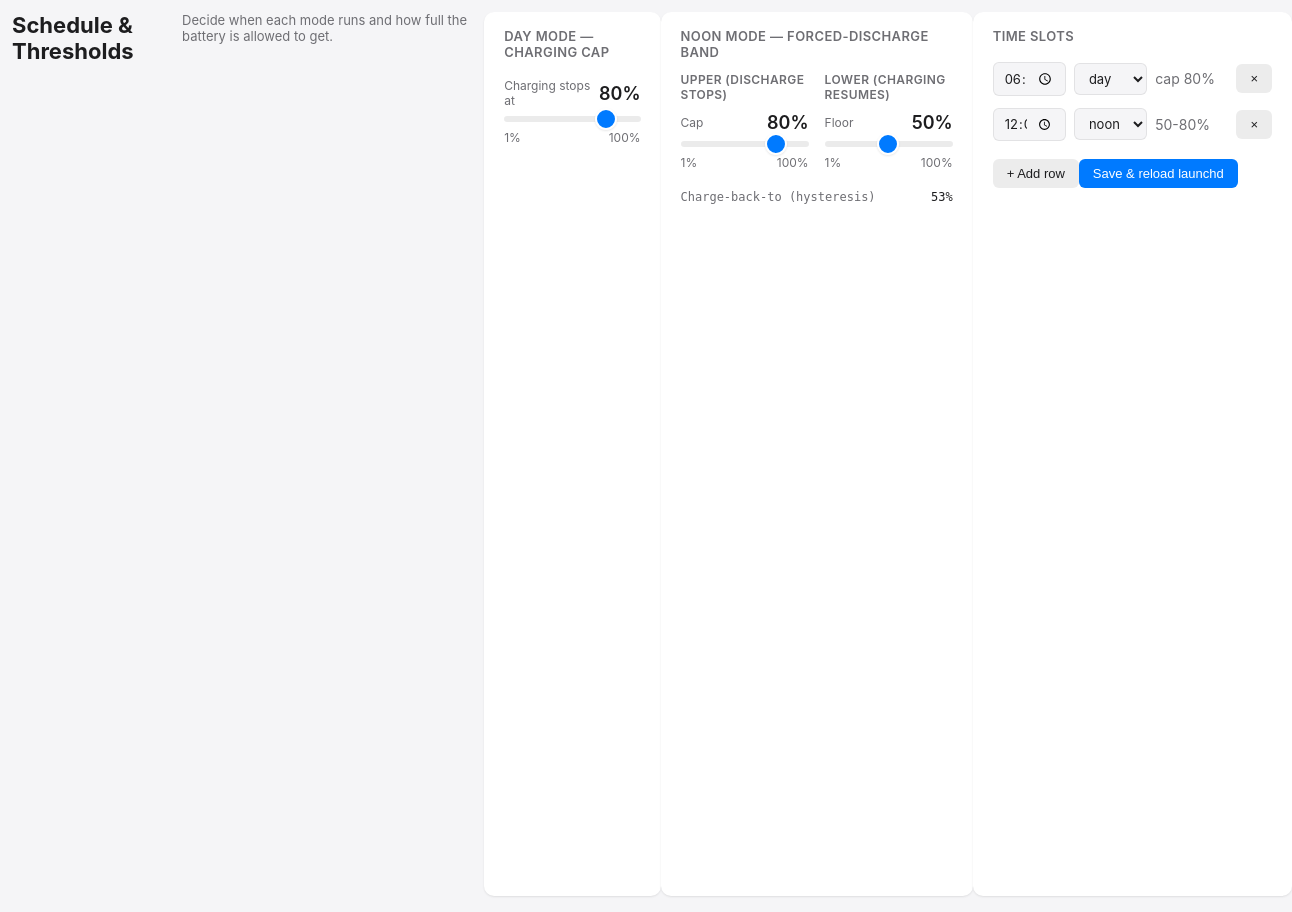
SchedulePage › day-upper slider change updates value (clamped)
Set the slider with test id "slider-day-upper" to "90" at {"x": 620, "y": 119}, box [504, 116, 640, 122]
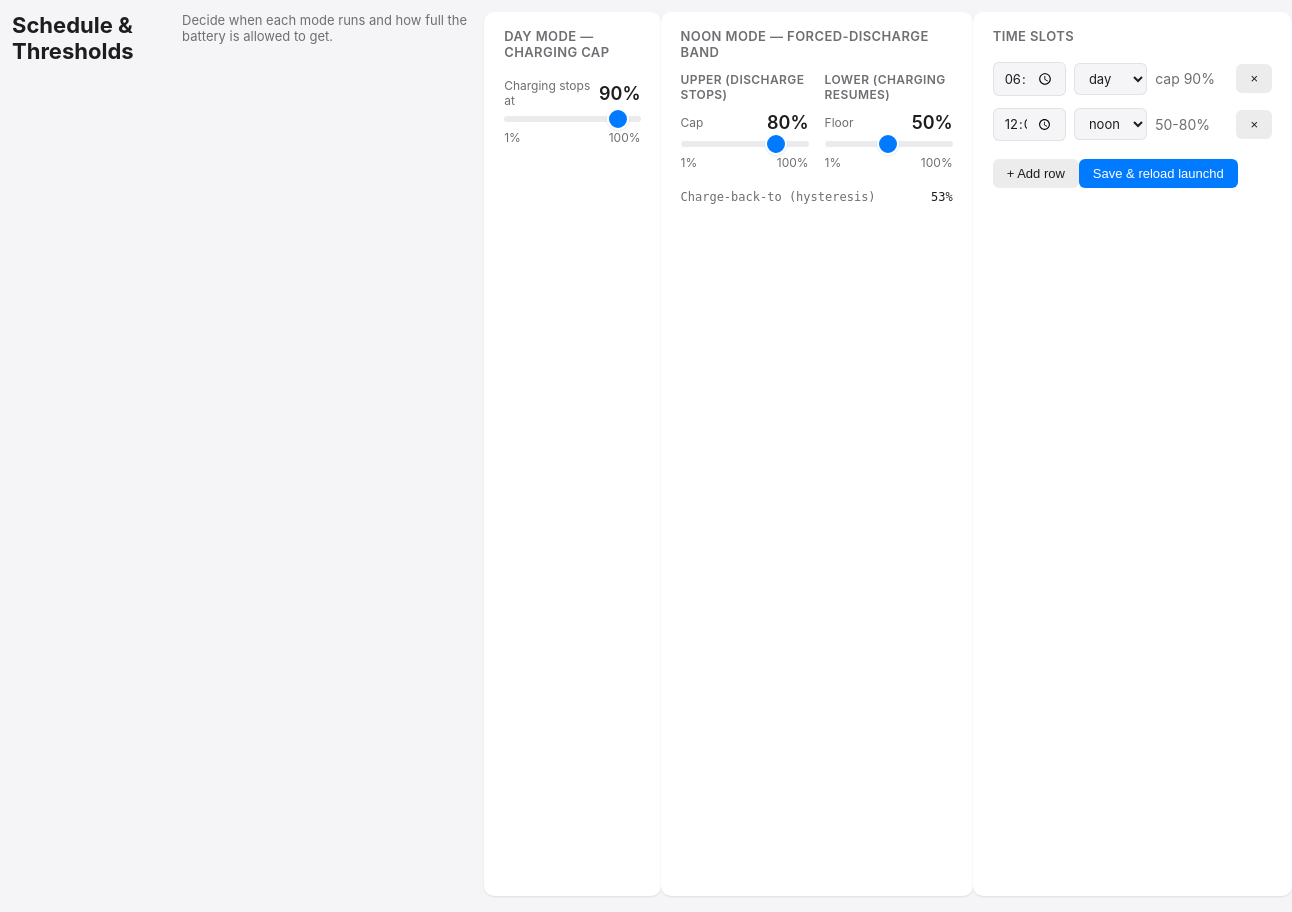
Check: the text with test id "slider-day-upper-value" reads "90%", box [599, 82, 640, 104]
